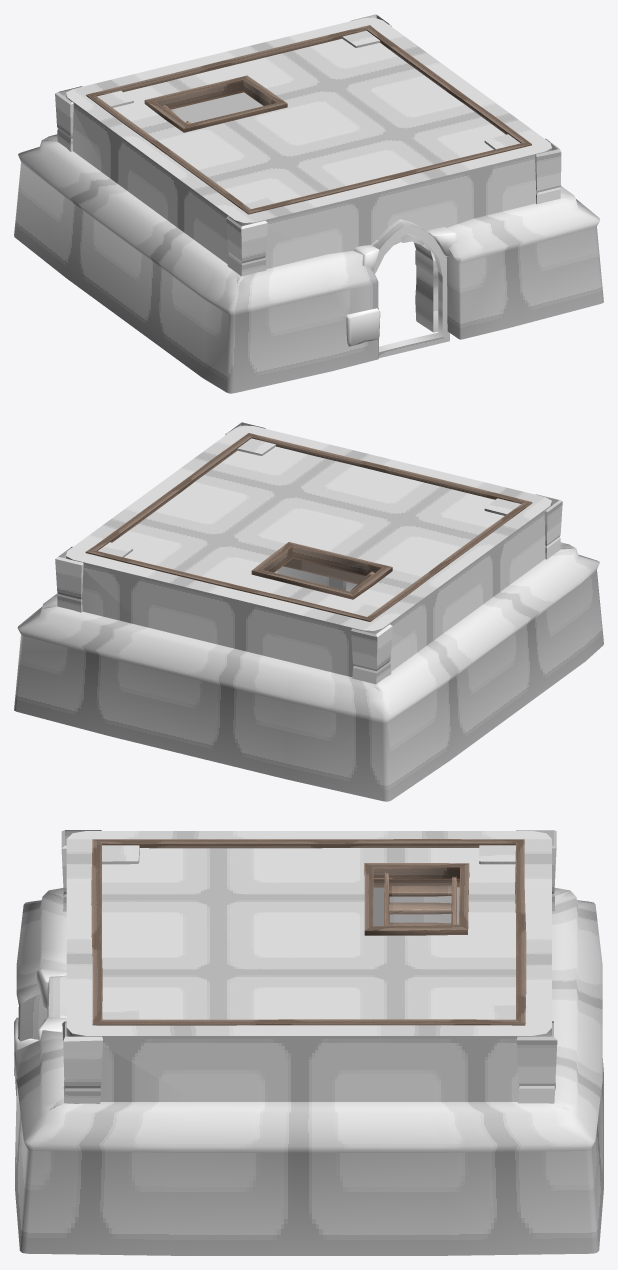
The model's file is SM_TowerE_Bottom.fbx.
3 views of the same model, one above another, from view 1: azimuth 30°, elevation 25°; view 2: azimuth 150°, elevation 25°; view 3: azimuth 270°, elevation 25° (orthographic). The views are drawn at different scales.
Visible parts, largest first — view 1: SM_TowerE_Bottom_LOD0; view 2: SM_TowerE_Bottom_LOD0; view 3: SM_TowerE_Bottom_LOD0.
Part boxes in pixels (x1,y1,x2,y2): SM_TowerE_Bottom_LOD0: [14, 14, 603, 393]; SM_TowerE_Bottom_LOD0: [14, 422, 603, 801]; SM_TowerE_Bottom_LOD0: [14, 830, 603, 1255].
Size of the model in its own units: 1214 by 1216 by 509.
